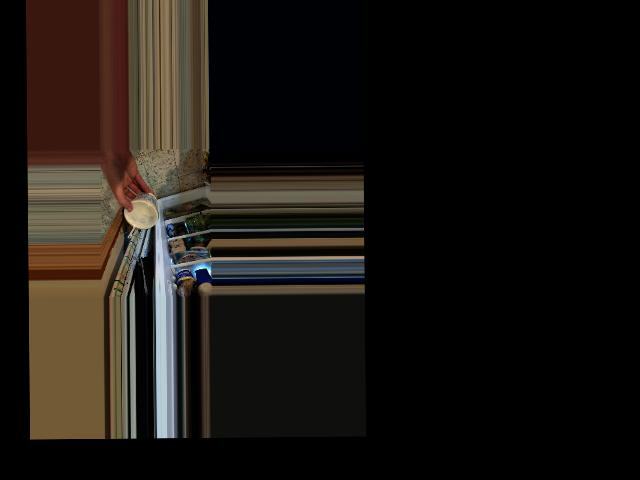cotage: (126, 192, 156, 232)
